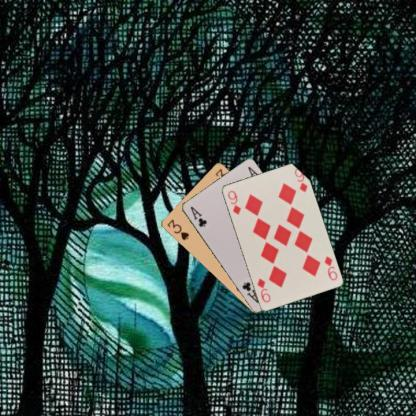3s: (165, 217, 190, 242)
9d: (321, 253, 339, 281), (225, 188, 242, 216)
Ac: (187, 204, 208, 228)
